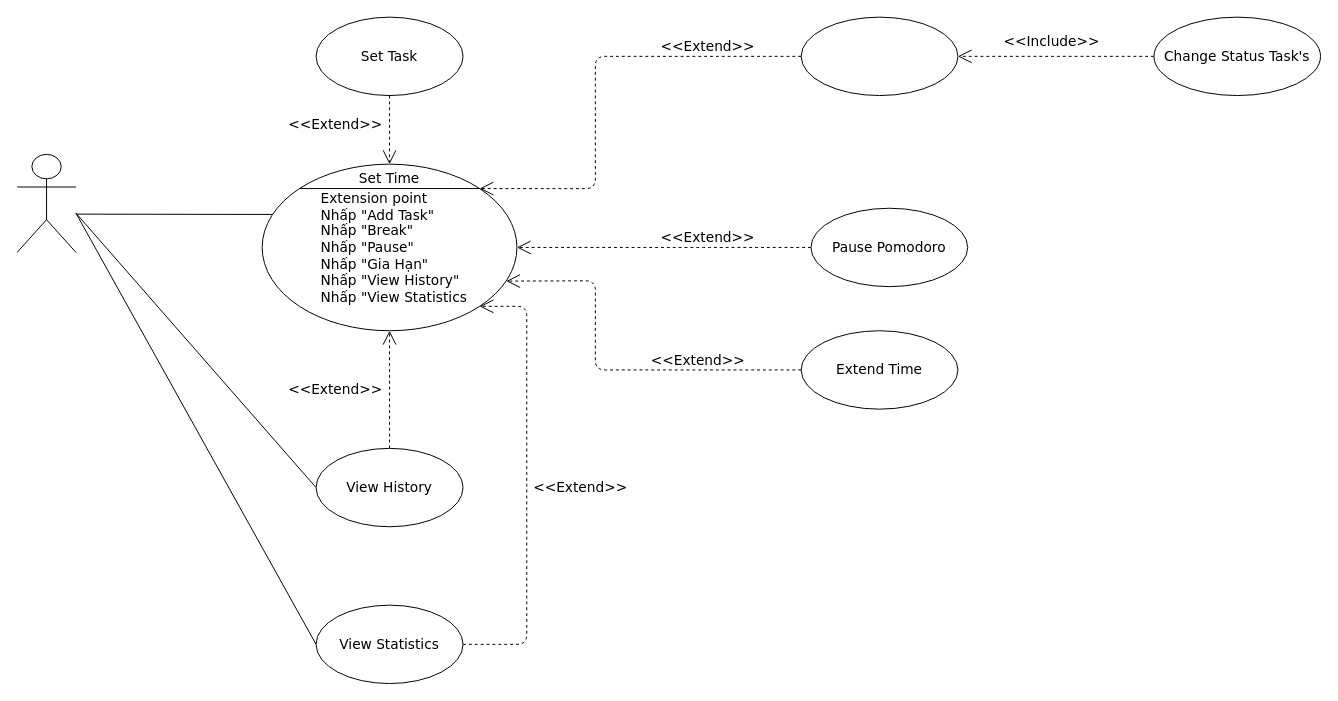
Some shapes in this 1338 by 701 pixel diagram are drawn without their labels. The centre of each missing label's shape, as x and y in pixels:
"Break Pomodoro" belongs at point 879,56.
"User" belongs at point 46,202.
